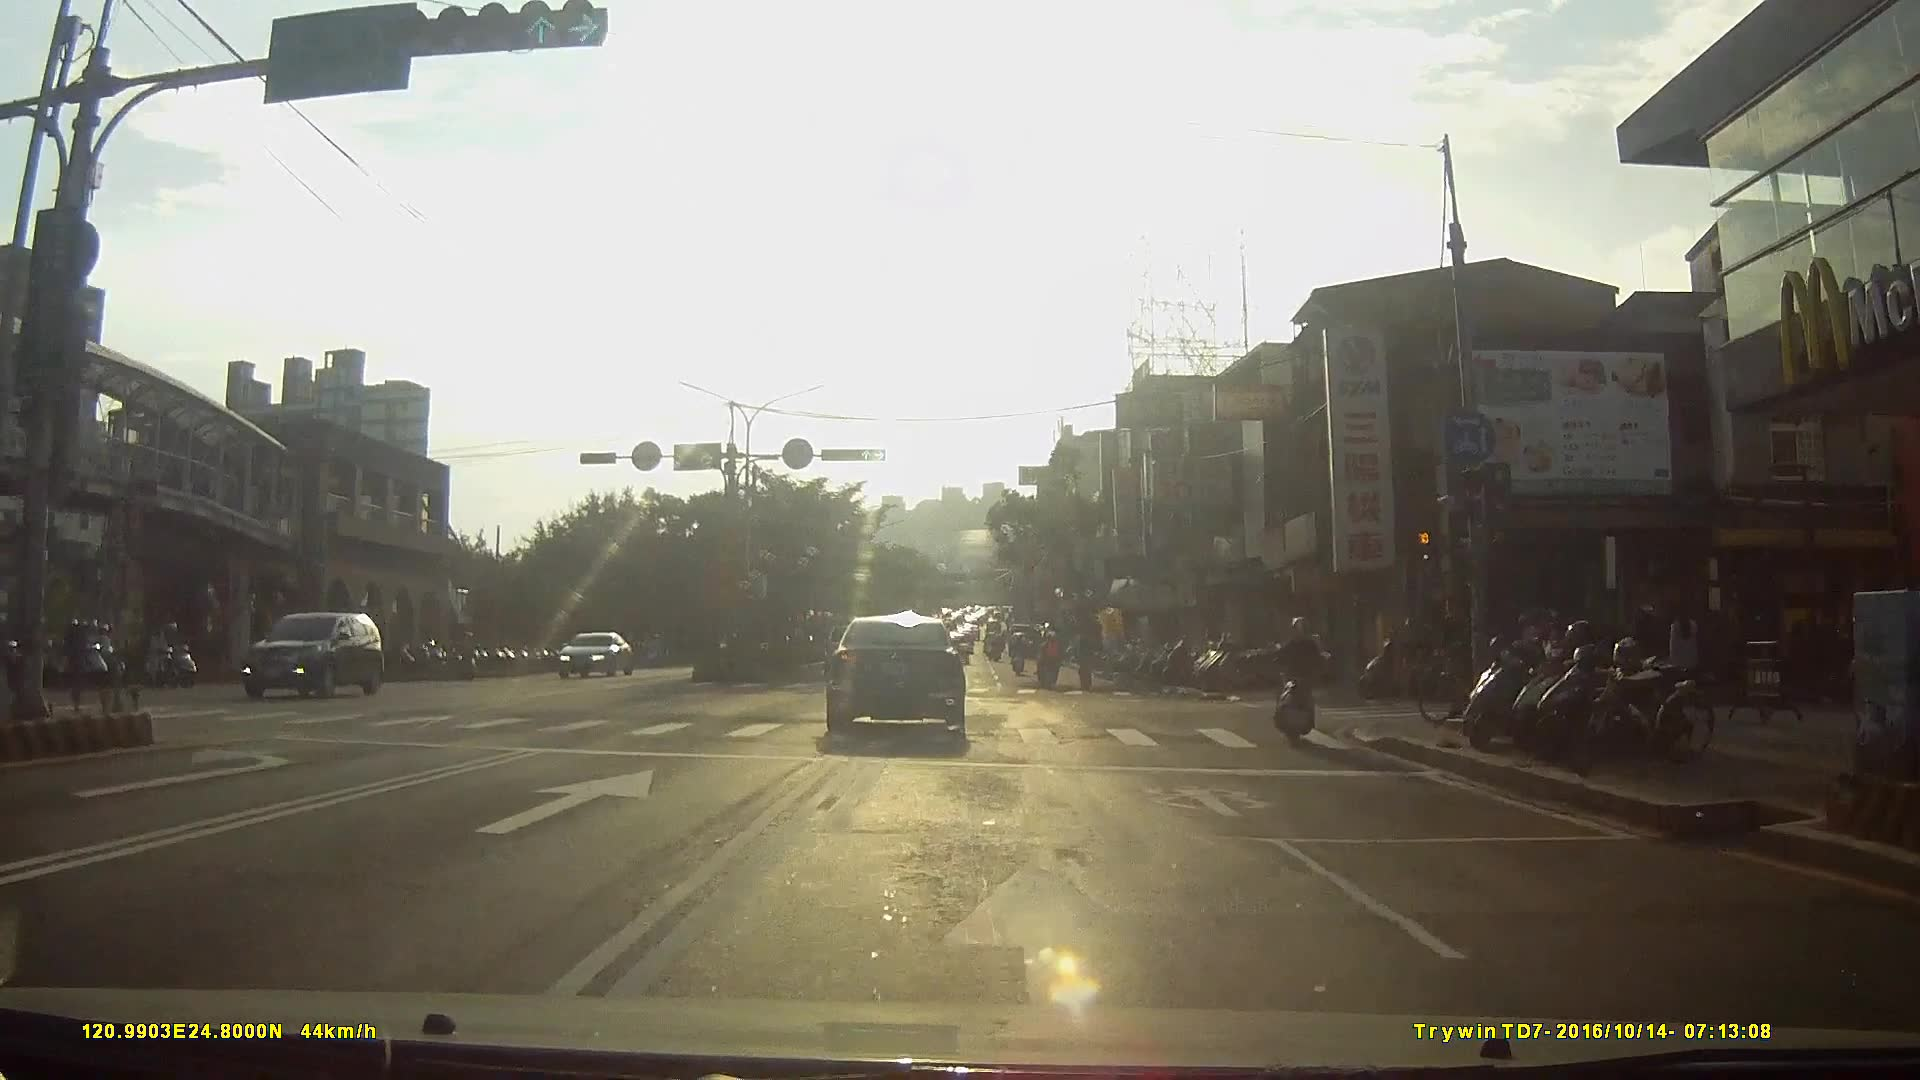pedestrian: (1664, 599, 1702, 705)
rider: (1274, 617, 1334, 744), (140, 619, 201, 691), (57, 623, 118, 690), (1037, 631, 1066, 694), (1008, 635, 1030, 680)
vehicle: (826, 609, 983, 748), (238, 611, 394, 702), (559, 632, 638, 682)
